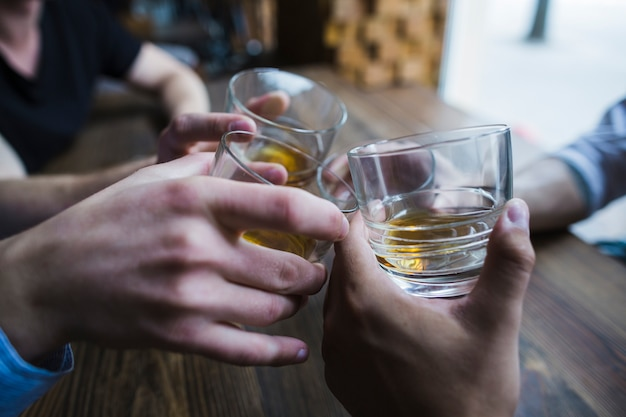alcohol: (347, 125, 531, 303), (205, 128, 360, 273), (218, 64, 346, 173)
